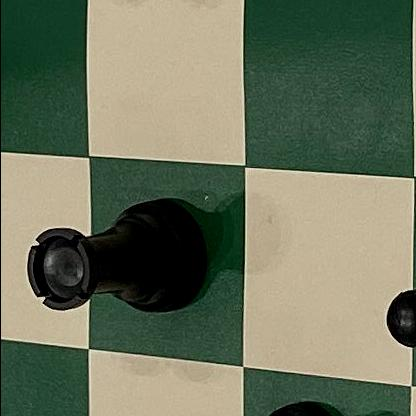black-pawn: (368, 233, 416, 373), (174, 390, 361, 416)
black-rook: (7, 187, 216, 335)
